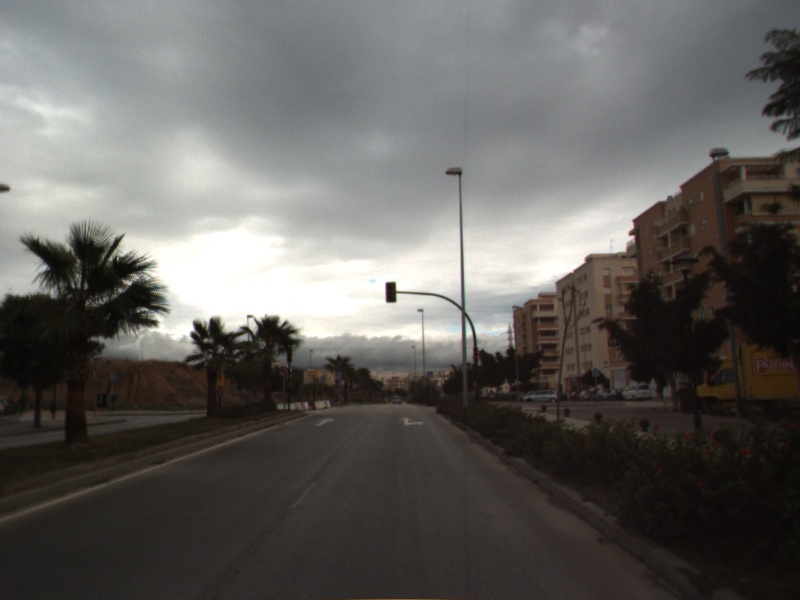STRAIGHT: (314, 416, 338, 428)
STRAIGHT_RIGHT: (396, 414, 426, 427)
